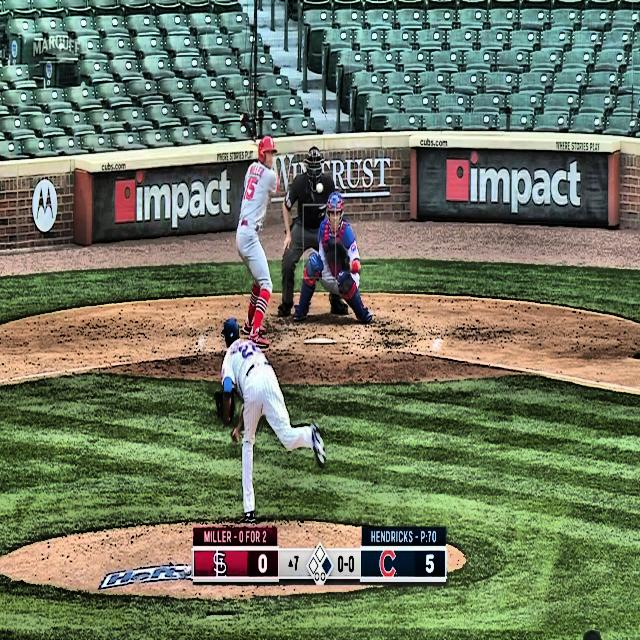baseball: (316, 181, 324, 195)
